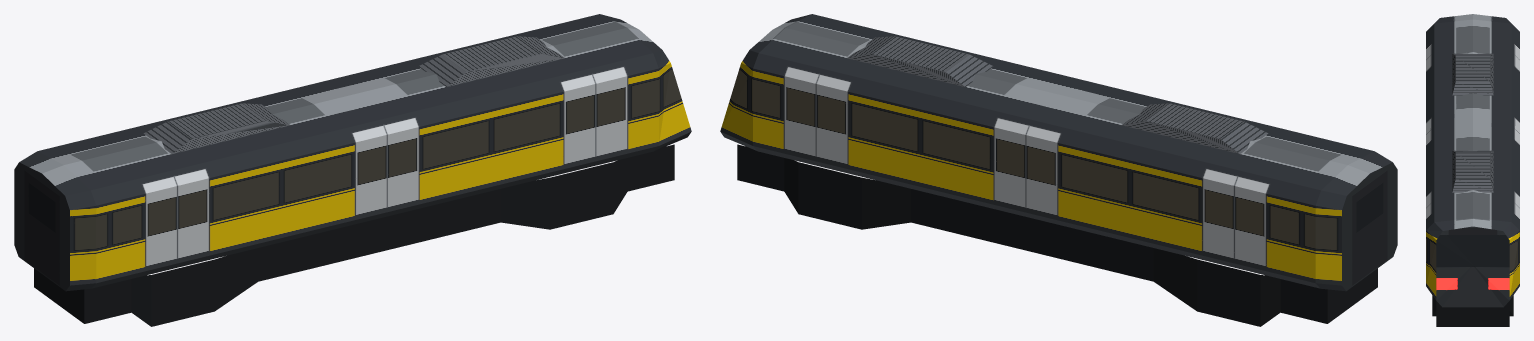
File: bvg_kleinprofil__tail.glb
3 views of the same model, side by side, from view 1: azimuth 30°, elevation 25°; view 2: azimuth 150°, elevation 25°; view 3: azimuth 270°, elevation 25° (orthographic). The views are drawn at different scales.
Parts seen in each view (by area): view 1: bvg_kleinprofil__tail; view 2: bvg_kleinprofil__tail; view 3: bvg_kleinprofil__tail.
Boxes of the visible parts, x1=… form: bvg_kleinprofil__tail: x1=14, y1=14, x2=691, y2=326; bvg_kleinprofil__tail: x1=720, y1=14, x2=1397, y2=326; bvg_kleinprofil__tail: x1=1426, y1=14, x2=1519, y2=326.
Bounding box in the file's own units: 12.8 × 3.18 × 2.3.
Materials: 1 (1 with a texture image).
